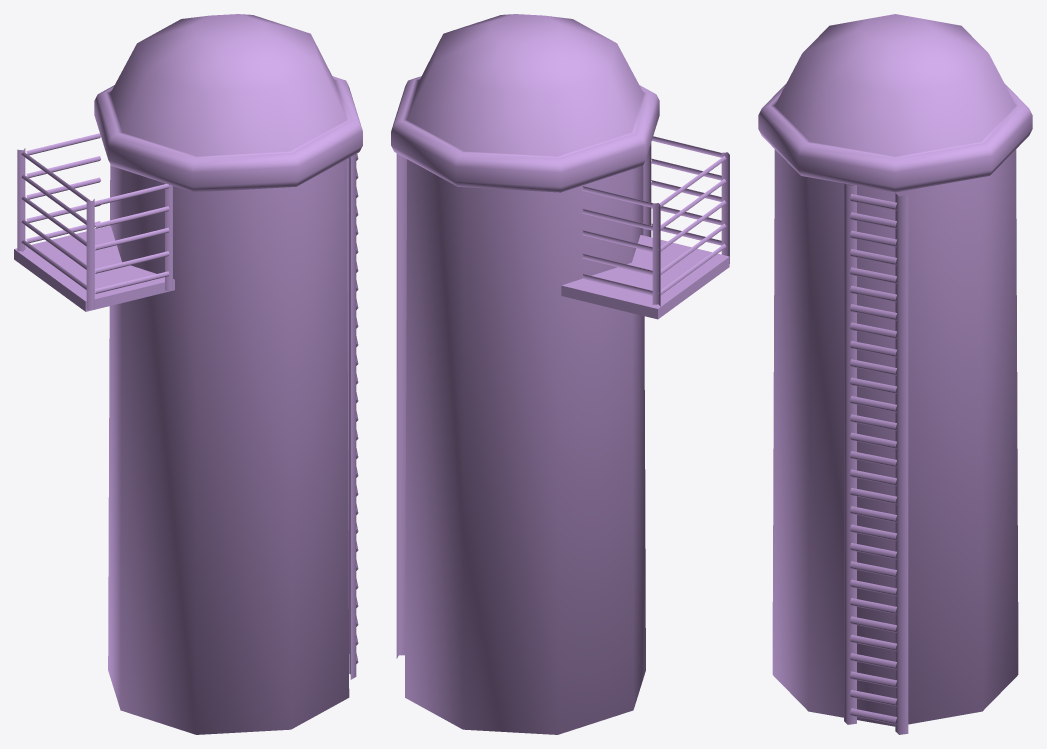
The model's file is G_Background_Tank_A.fbx.
3 renders of one model, left to right at view 1: azimuth 30°, elevation 25°; view 2: azimuth 150°, elevation 25°; view 3: azimuth 270°, elevation 25°, orthographic.
Visible parts, largest first — view 1: G_Background_Tank_A; view 2: G_Background_Tank_A; view 3: G_Background_Tank_A.
Boxes of the visible parts, left/top/right/bottom form: G_Background_Tank_A: left=14, top=14, right=362, bottom=734; G_Background_Tank_A: left=391, top=14, right=729, bottom=734; G_Background_Tank_A: left=758, top=14, right=1032, bottom=734.
Size of the model in its own units: 1202 by 2517 by 969.
